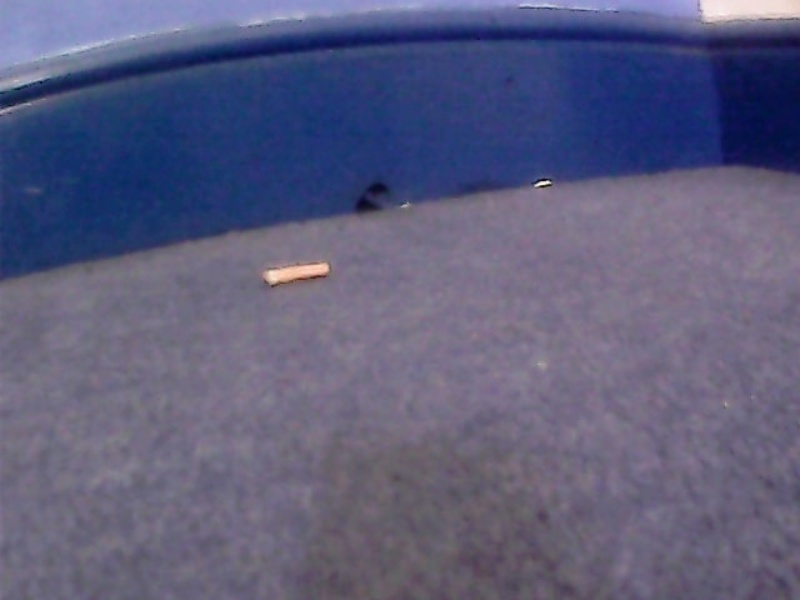cig: (260, 260, 335, 287)
